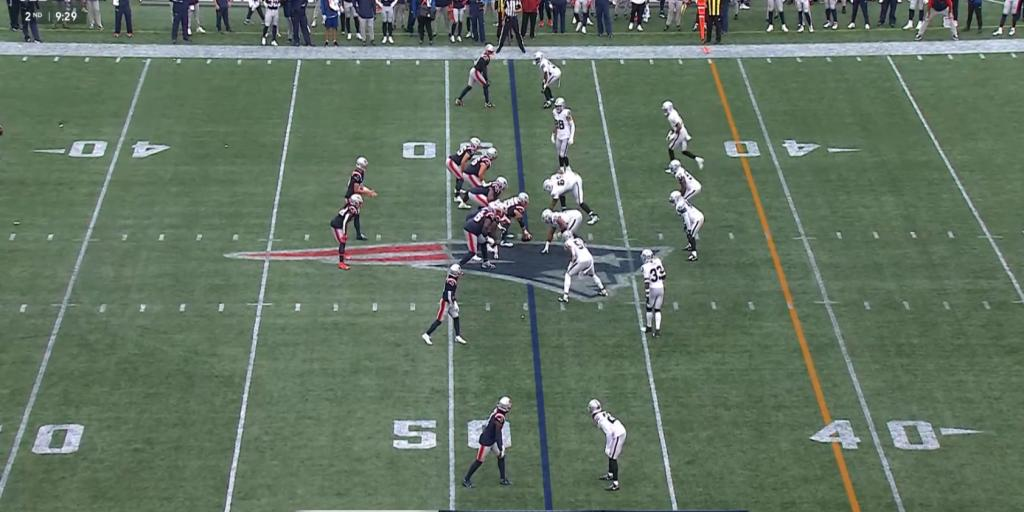player: (464, 397, 510, 486), (422, 264, 467, 344), (588, 399, 626, 489), (559, 231, 607, 301), (544, 167, 599, 224), (662, 102, 704, 168), (461, 205, 504, 264), (330, 194, 363, 269), (670, 191, 703, 260), (456, 45, 493, 106), (641, 249, 666, 336), (446, 138, 480, 194), (541, 208, 583, 253), (552, 97, 574, 170), (534, 51, 560, 107), (345, 157, 375, 205), (502, 193, 532, 241), (666, 161, 702, 200), (464, 148, 496, 186), (468, 176, 506, 207), (355, 214, 367, 239), (501, 241, 512, 246)
